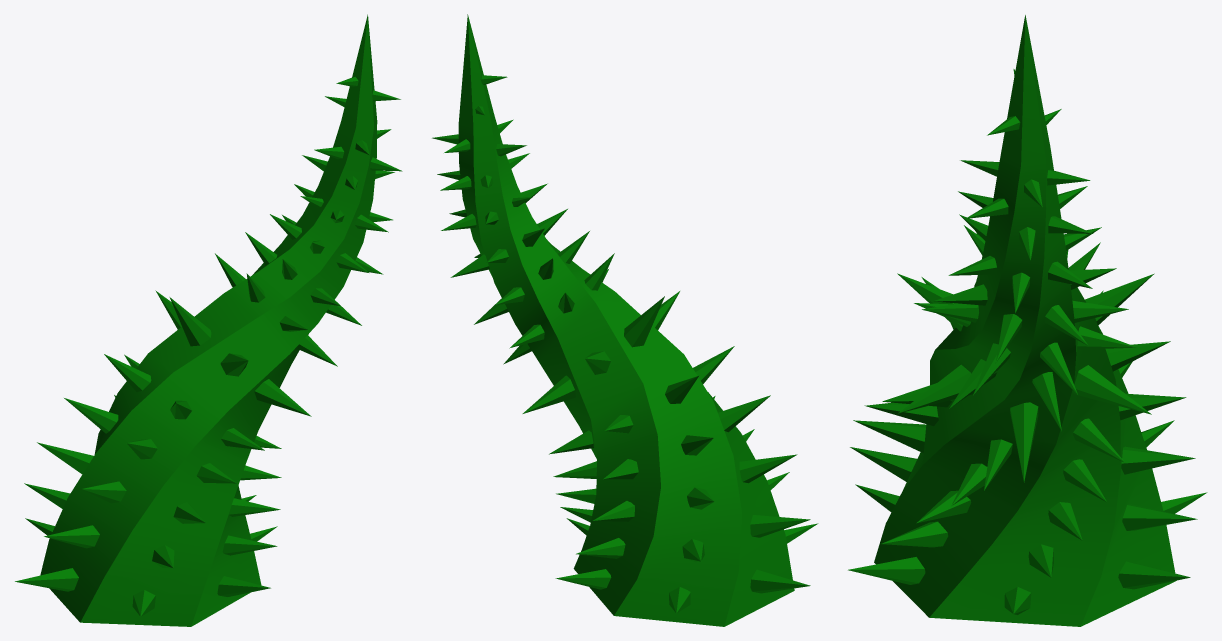
Rendered from Mesh_Espina_v002.fbx.
3 views of the same model, side by side, from view 1: azimuth 30°, elevation 25°; view 2: azimuth 150°, elevation 25°; view 3: azimuth 270°, elevation 25° (orthographic). The views are drawn at different scales.
Parts seen in each view (by area): view 1: Mesh_Espina_v002; view 2: Mesh_Espina_v002; view 3: Mesh_Espina_v002.
Boxes of the visible parts, left/top/right/bottom form: Mesh_Espina_v002: left=15, top=14, right=402, bottom=626; Mesh_Espina_v002: left=432, top=14, right=818, bottom=626; Mesh_Espina_v002: left=848, top=15, right=1207, bottom=626.
Size of the model in its own units: 10.18 by 13.29 by 6.15.
